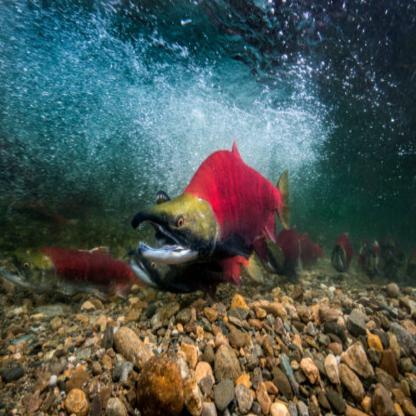sockeye: (138, 162, 288, 262), (12, 236, 136, 305)
sockeye-group: (0, 177, 401, 299)
